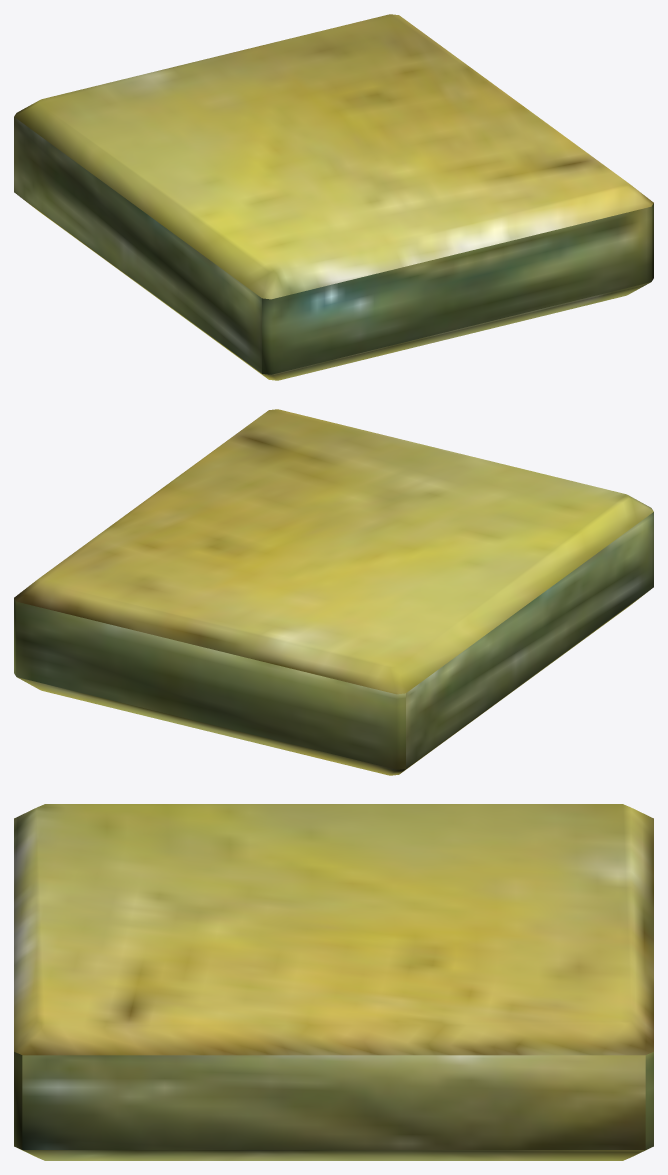
The model's file is cartel_coke_1.FBX.
3 renders of one model, top to bottom at view 1: azimuth 30°, elevation 25°; view 2: azimuth 150°, elevation 25°; view 3: azimuth 270°, elevation 25°, orthographic. The views are drawn at different scales.
Parts seen in each view (by area): view 1: cartel_coke_1; view 2: cartel_coke_1; view 3: cartel_coke_1.
Part boxes in pixels (box(x1,y1,x2,y2)): cartel_coke_1: box(14, 14, 653, 380); cartel_coke_1: box(14, 409, 653, 775); cartel_coke_1: box(14, 804, 653, 1160).
Bounding box in the file's own units: 36.15 × 9.54 × 40.71.
